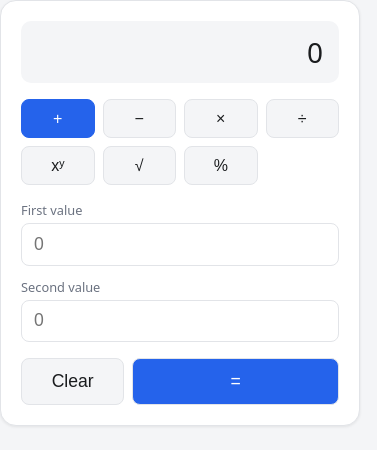
Scenario: Calculator › shows a validation error when only the first value is filled in
Type "5" into the number field labelled "First value" at [180, 244], box [21,223,339,266]
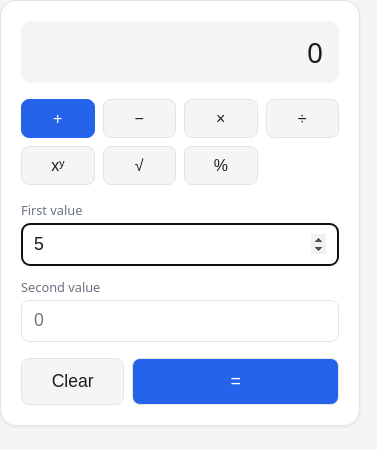
Click the button "=" at [236, 381], box [132,358,339,405]
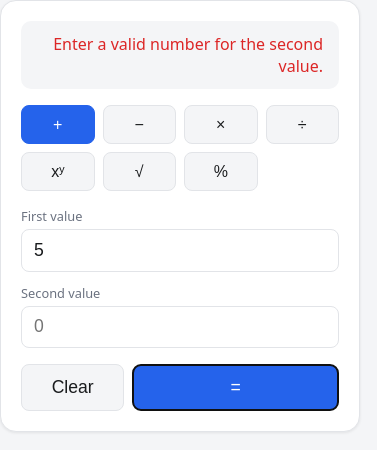
Expected: the text "Enter a valid number for the second value." is shown, [37,33,323,77]
